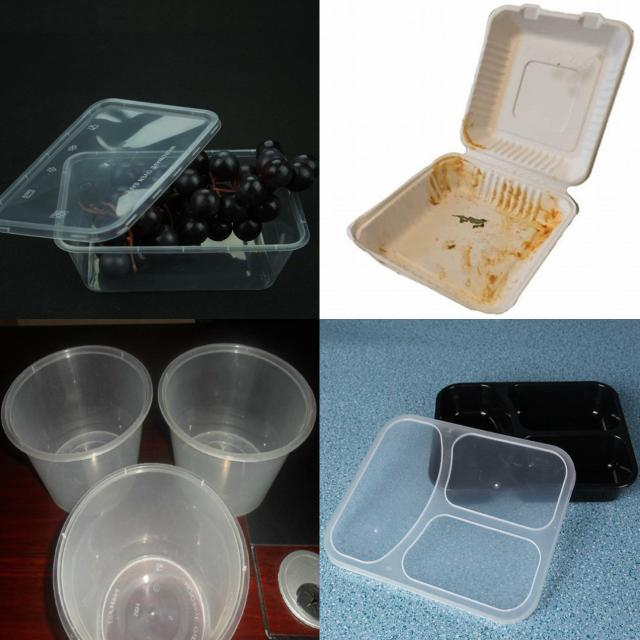plastik: (348, 5, 633, 313), (325, 416, 575, 623), (56, 139, 318, 292), (55, 464, 249, 640), (0, 100, 220, 242), (427, 372, 640, 508), (158, 344, 316, 515), (1, 345, 152, 511)
